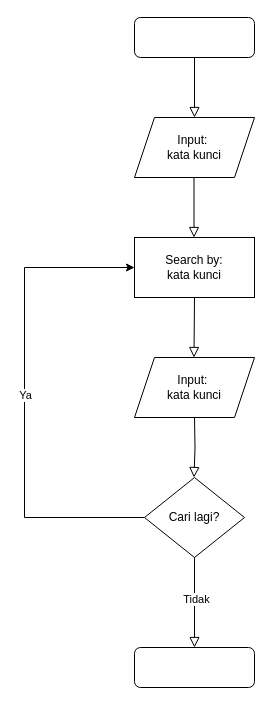
The diagram is 272 pixels wide and 705 high, and some of its shapes have lost their labels. Here are the shapes that lost their labels. From the top down, the centre of each, then its label:
At point (194, 37): "Start".
At point (194, 667): "Finish".
